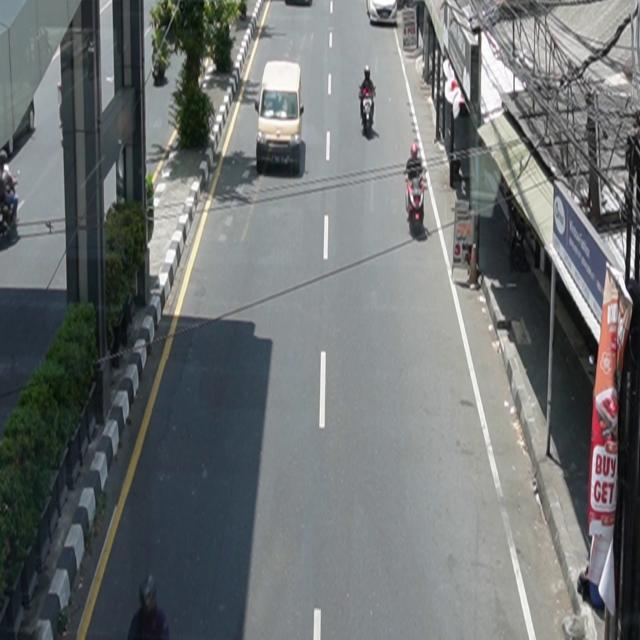car: (255, 60, 305, 175), (366, 1, 398, 26)
